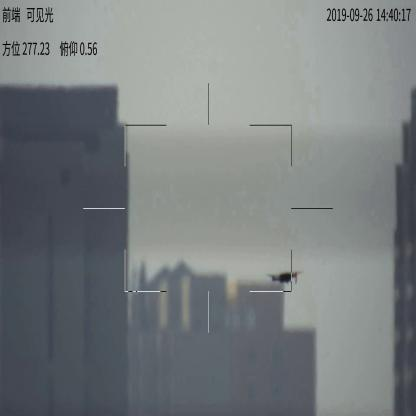uav: (263, 270, 301, 284)
